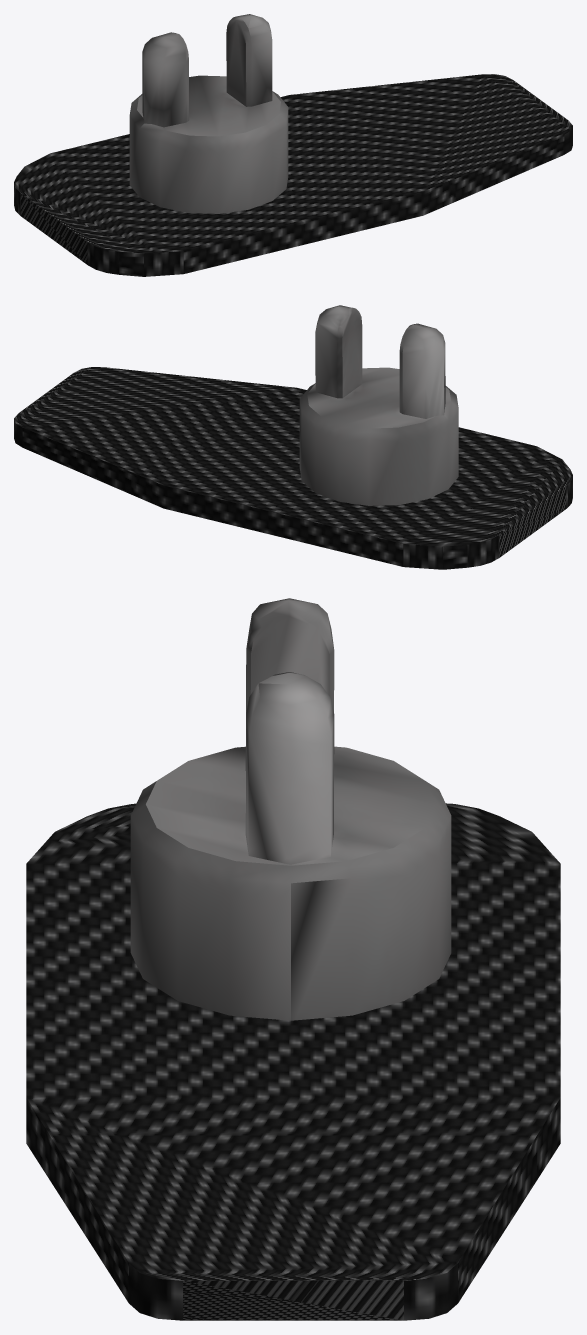
Rendered from l_foot.dae.
3 renders of one model, top to bottom at view 1: azimuth 30°, elevation 25°; view 2: azimuth 150°, elevation 25°; view 3: azimuth 270°, elevation 25°, orthographic. The views are drawn at different scales.
Parts seen in each view (by area): view 1: p38784_2, p38848_2, p42347_1, p42410_2, p38926_2; view 2: p38784_2, p38848_2, p42347_1, p42410_2, p38926_2; view 3: p38784_2, p38848_2, p42410_2, p42347_1, p38926_2.
Part boxes in pixels (x1=…): p38784_2: x1=14, y1=74, x2=572, y2=276; p38848_2: x1=129, y1=75, x2=288, y2=213; p42347_1: x1=142, y1=32, x2=189, y2=127; p42410_2: x1=226, y1=14, x2=272, y2=106; p38926_2: x1=14, y1=126, x2=572, y2=276; p38784_2: x1=14, y1=367, x2=572, y2=569; p38848_2: x1=299, y1=367, x2=458, y2=505; p42347_1: x1=399, y1=323, x2=445, y2=418; p42410_2: x1=315, y1=305, x2=362, y2=398; p38926_2: x1=14, y1=419, x2=572, y2=569; p38784_2: x1=26, y1=803, x2=560, y2=1320; p38848_2: x1=130, y1=746, x2=451, y2=1020; p42410_2: x1=245, y1=672, x2=334, y2=864; p42347_1: x1=245, y1=598, x2=334, y2=770; p38926_2: x1=129, y1=1263, x2=457, y2=1320.
Bounding box in the file's own units: 0.2618 × 0.1244 × 0.0916.
